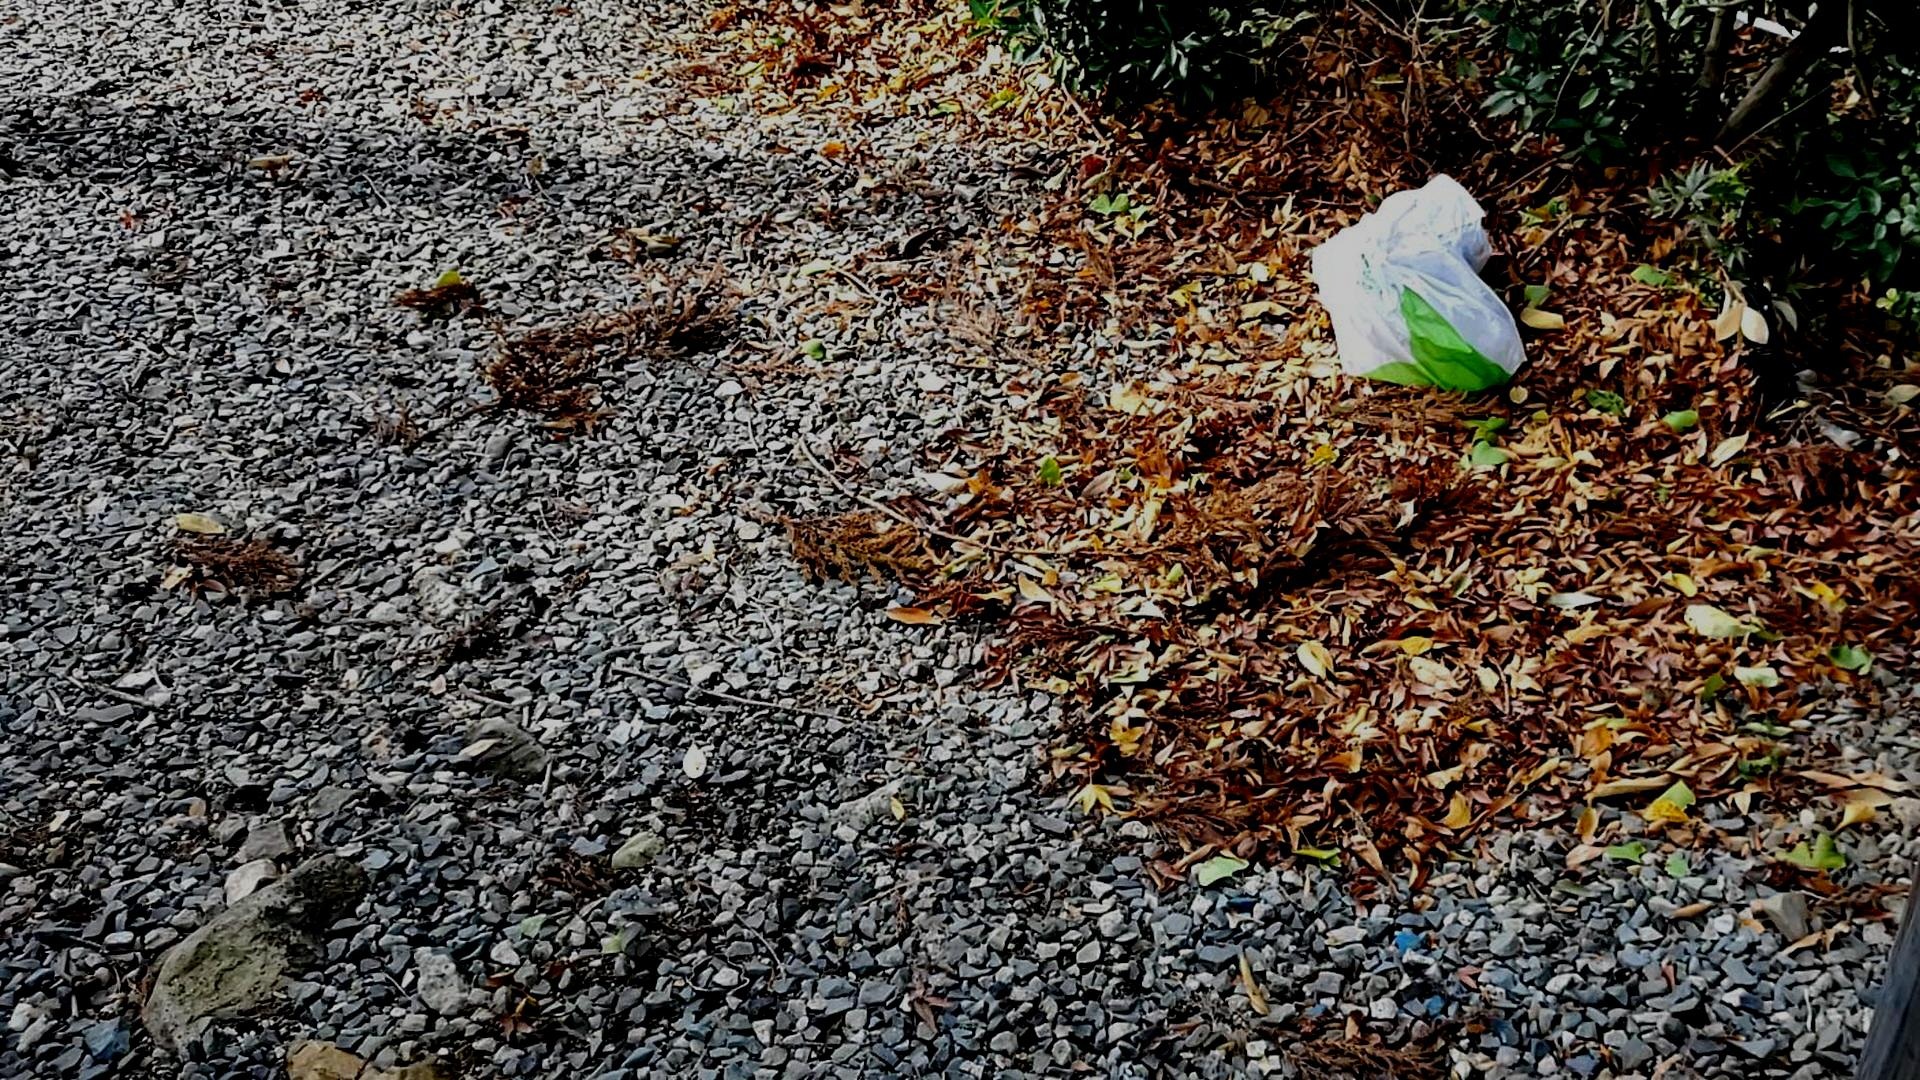white_bag: (1302, 162, 1544, 405)
